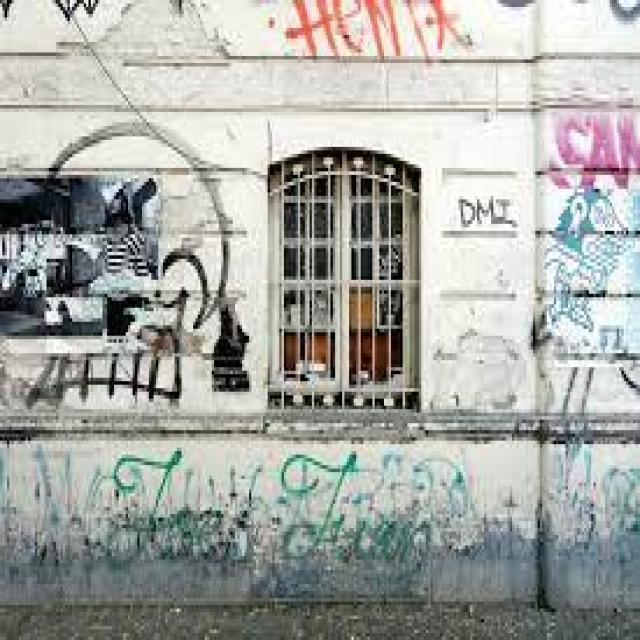-: (28, 124, 252, 431), (104, 448, 472, 562), (549, 112, 640, 542), (261, 0, 473, 64), (0, 0, 191, 21), (457, 188, 520, 228)
